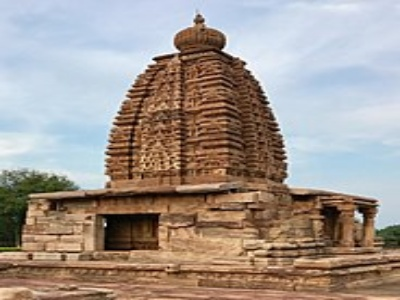amalaka: (163, 15, 241, 58)
gopuram: (91, 44, 301, 187)
mandapa: (295, 192, 390, 258)
